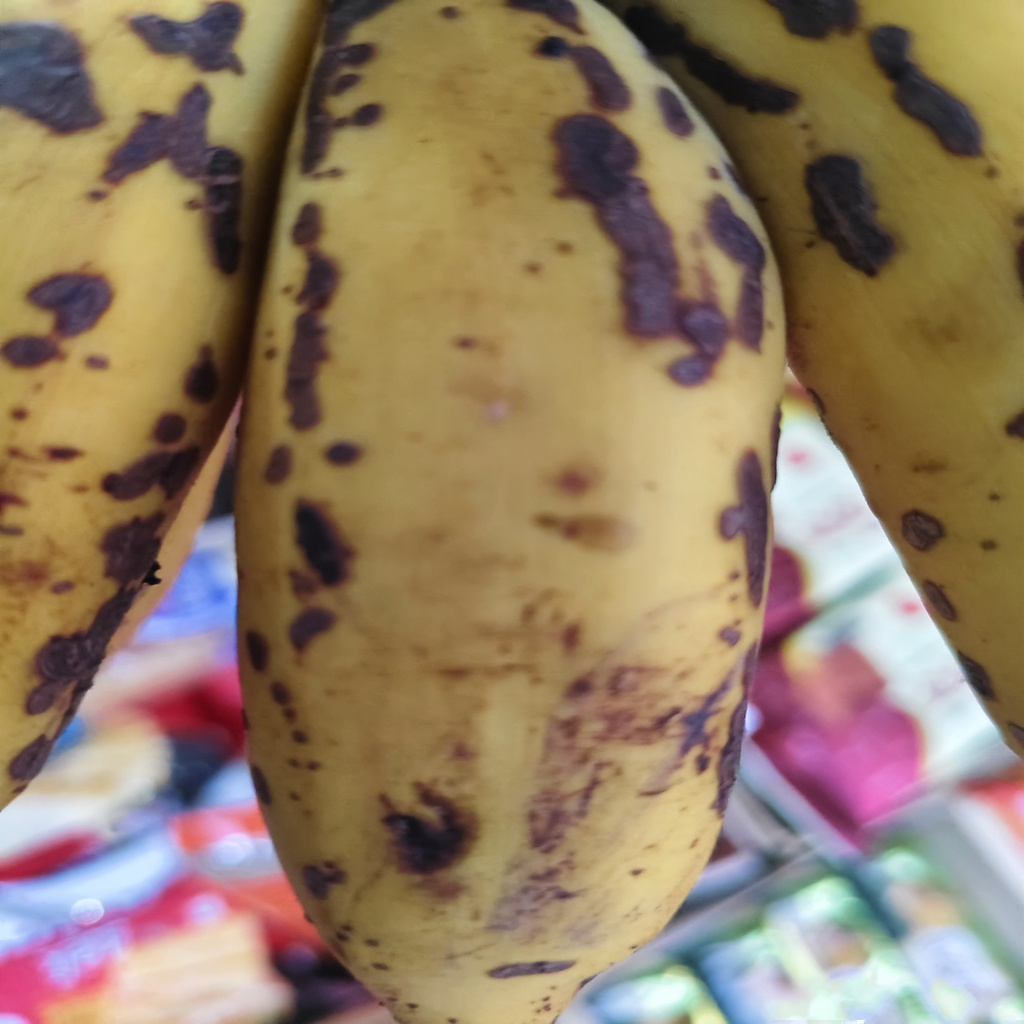unhealthy: (247, 23, 782, 999)
